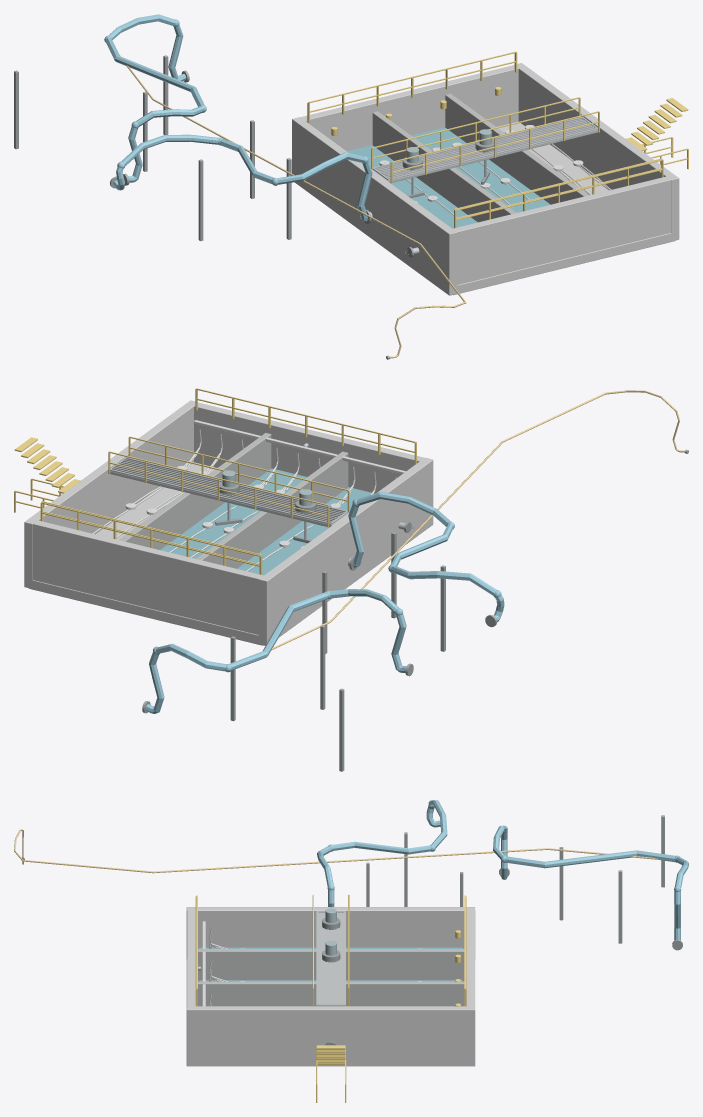
The picture shows the model from 3 angles, top to bottom: view 1: azimuth 30°, elevation 25°; view 2: azimuth 150°, elevation 25°; view 3: azimuth 270°, elevation 25°; orthographic projection. The views are drawn at different scales.
Parts seen in each view (by area): view 1: render-batch-7, render-batch-5, render-batch-10, render-batch-1, render-batch-0, render-batch-6, render-batch-3, render-batch-9, render-batch-8, render-batch-2; view 2: render-batch-7, render-batch-5, render-batch-10, render-batch-1, render-batch-0, render-batch-6, render-batch-8, render-batch-3, render-batch-9, render-batch-2; view 3: render-batch-7, render-batch-5, render-batch-1, render-batch-6, render-batch-10, render-batch-3, render-batch-9, render-batch-0, render-batch-8.
Boxes of the visible parts, left/top/right/bottom form: render-batch-7: left=292, top=63, right=679, bottom=295; render-batch-5: left=372, top=93, right=589, bottom=222; render-batch-10: left=307, top=51, right=688, bottom=228; render-batch-1: left=104, top=14, right=372, bottom=221; render-batch-0: left=347, top=127, right=550, bottom=228; render-batch-6: left=369, top=117, right=597, bottom=254; render-batch-3: left=14, top=55, right=389, bottom=359; render-batch-9: left=119, top=54, right=466, bottom=358; render-batch-8: left=379, top=125, right=610, bottom=220; render-batch-2: left=359, top=139, right=494, bottom=257; render-batch-7: left=24, top=400, right=433, bottom=645; render-batch-5: left=119, top=433, right=348, bottom=568; render-batch-10: left=14, top=388, right=416, bottom=574; render-batch-1: left=145, top=492, right=504, bottom=713; render-batch-0: left=160, top=468, right=374, bottom=575; render-batch-6: left=108, top=443, right=405, bottom=566; render-batch-8: left=92, top=420, right=405, bottom=571; render-batch-3: left=142, top=449, right=688, bottom=771; render-batch-9: left=271, top=390, right=684, bottom=649; render-batch-2: left=215, top=481, right=413, bottom=570; render-batch-7: left=186, top=907, right=475, bottom=1066; render-batch-5: left=198, top=949, right=464, bottom=1006; render-batch-1: left=317, top=800, right=688, bottom=940; render-batch-6: left=198, top=911, right=345, bottom=1006; render-batch-10: left=195, top=894, right=466, bottom=1102; render-batch-3: left=21, top=815, right=682, bottom=950; render-batch-9: left=14, top=829, right=663, bottom=873; render-batch-0: left=199, top=947, right=462, bottom=981; render-batch-8: left=202, top=921, right=421, bottom=1006.
Bounding box in the file's own units: 28.03 × 5 × 35.07.
